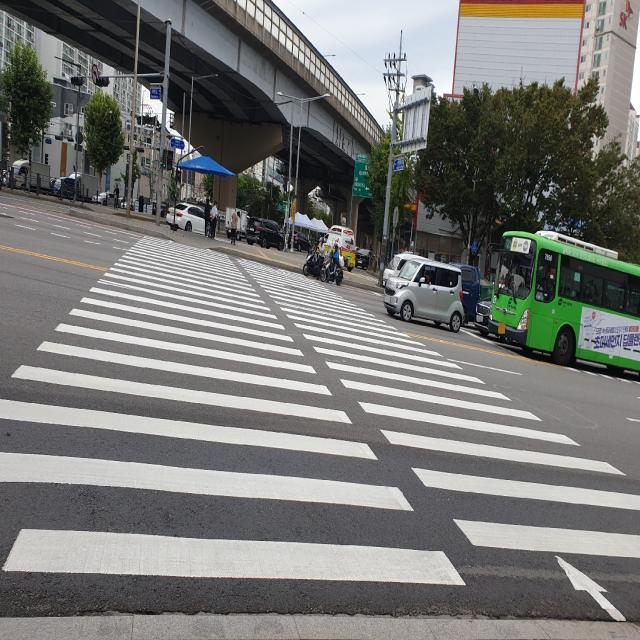횡단보도: (0, 234, 639, 624)
